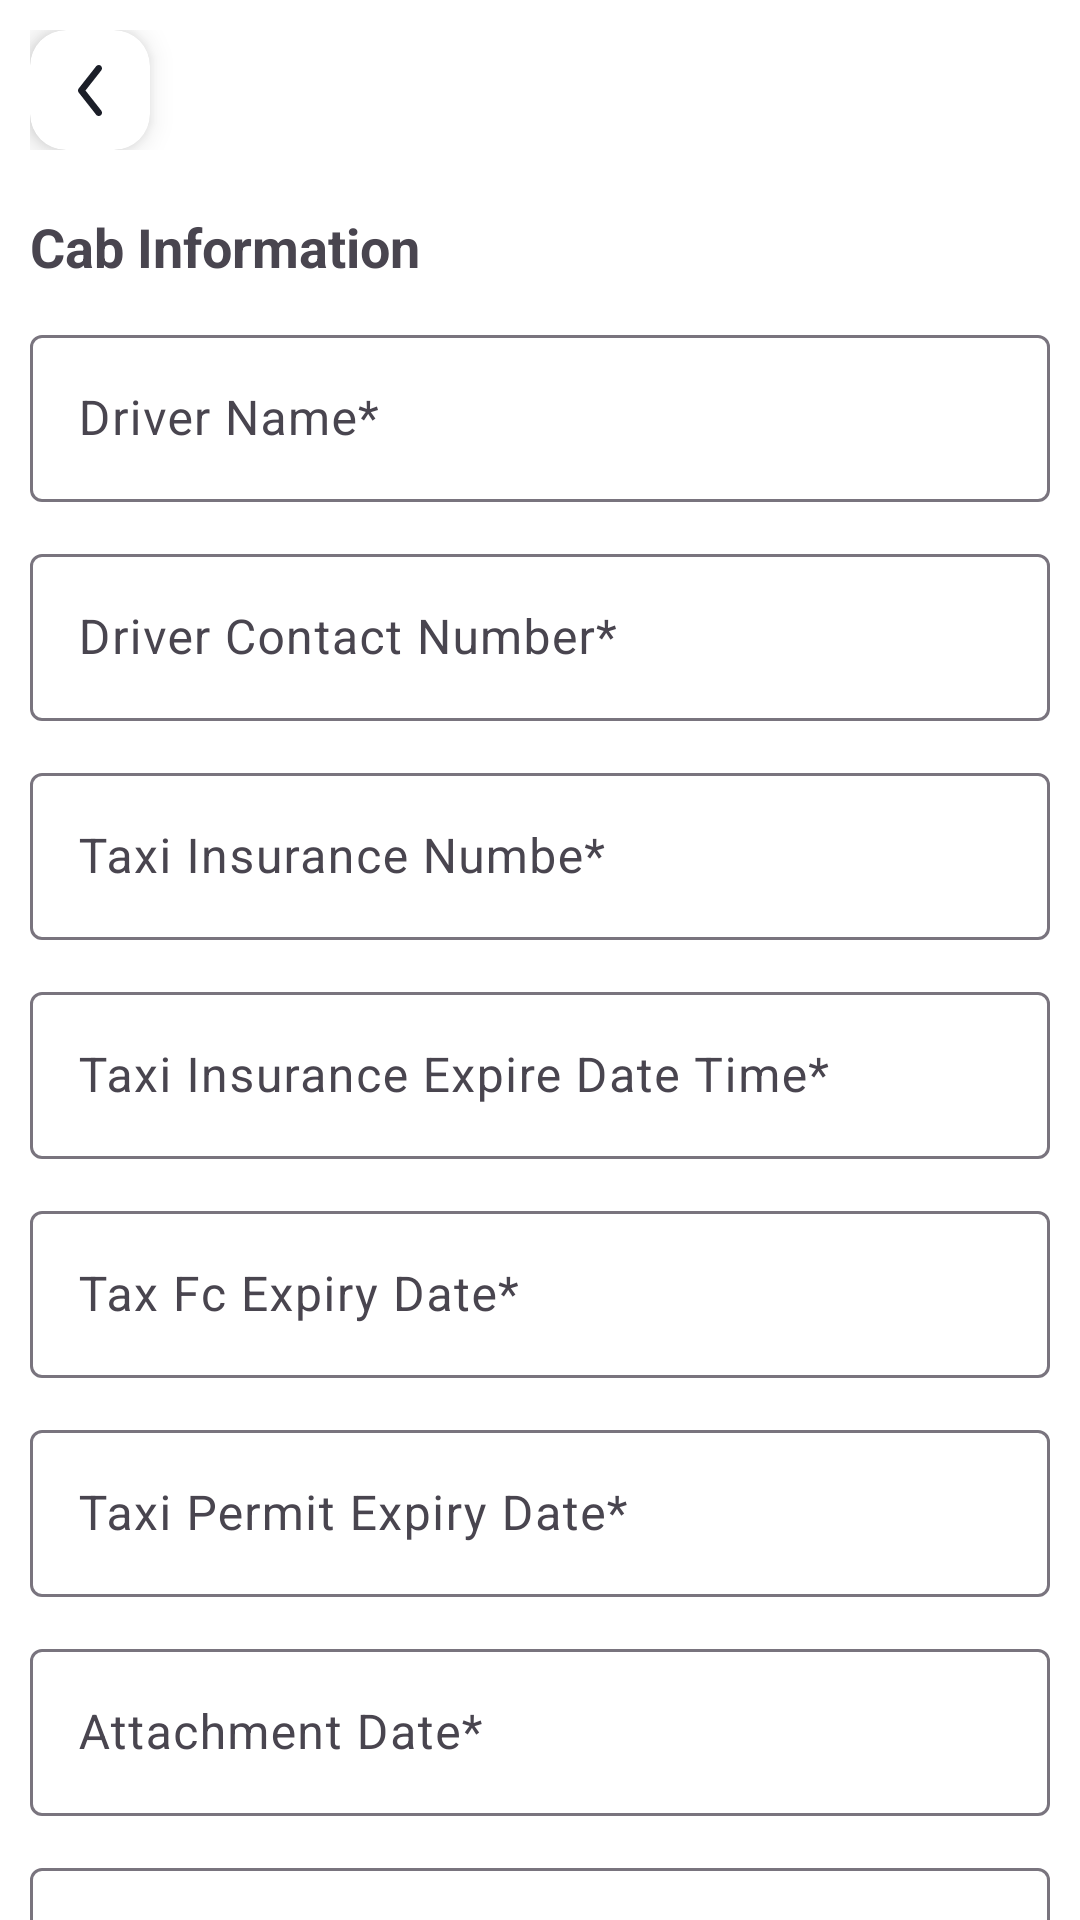

Locate icon controls on the screen. Image size 1080w x 1920h, boxes as {"left": x1, "top": y1, "right": x2, "bottom": y2}.
Back: {"left": 30, "top": 32, "right": 102, "bottom": 150}
